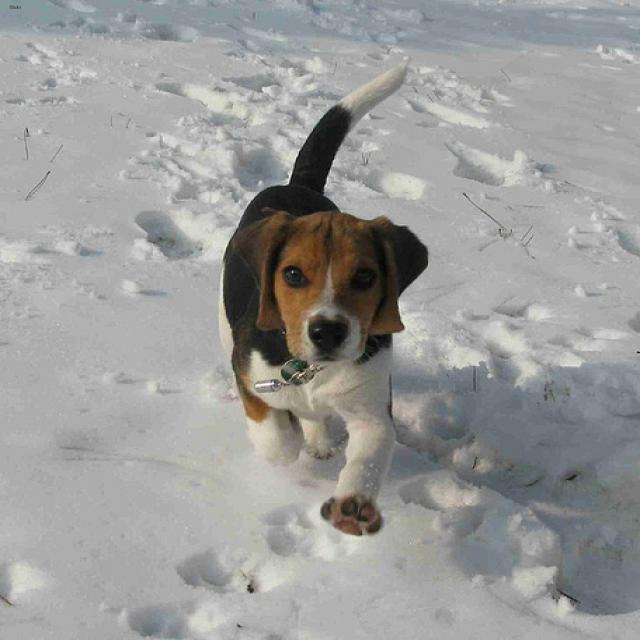dog-beagle: (212, 54, 435, 545)
